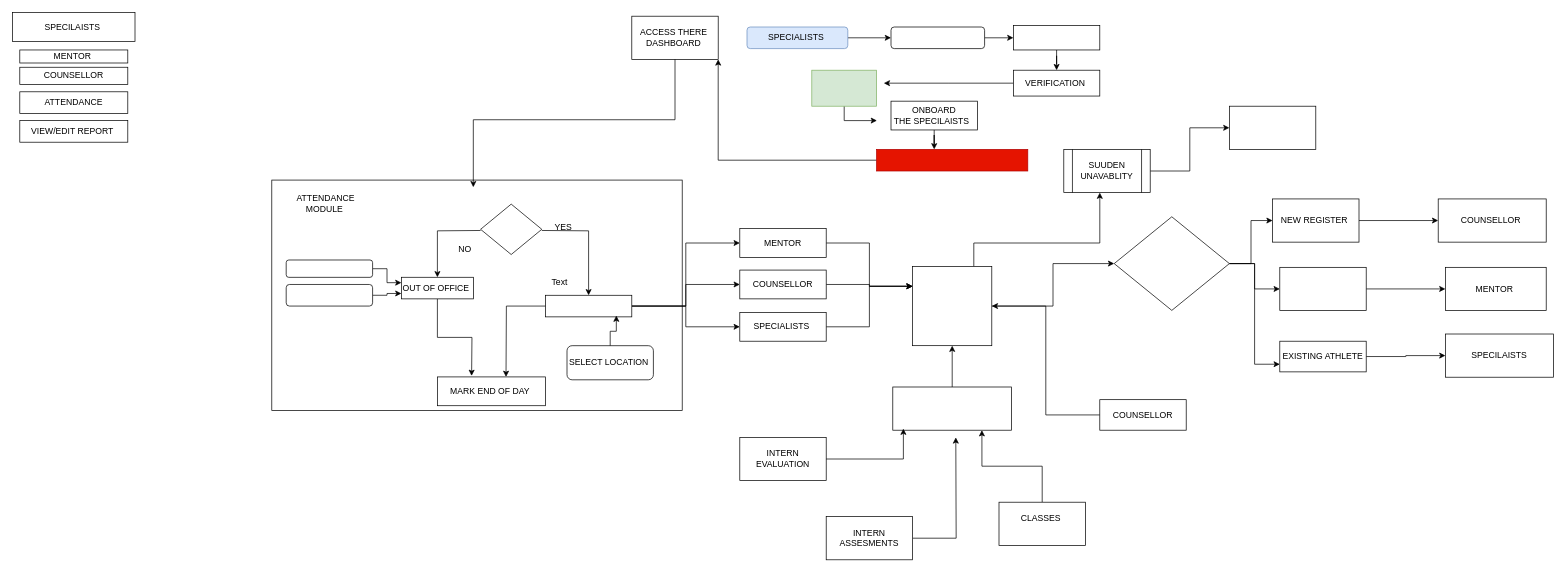
This 1566x572 diagram has some shape labels left out. Each missing label, with the centre of its shape:
"DOCUMENT UPLOAD" belongs at point 1056,37.
"IF AVALIBLE SPECLIALISTS" belongs at point 1171,263.
"IF IN OFFICE" belongs at point 511,229.
"INTERN" belongs at point 1322,289.
"IT SUPPORT" belongs at point 844,87.
"LOCATION" belongs at point 329,295.
"Login Credtional are sent to the mail" belongs at point 952,160.
"MARKS IN OFFICE" belongs at point 588,306.
"MENTOR SCHEDULE" belongs at point 952,408.
"REASON" belongs at point 329,268.
"REGISTER" belongs at point 937,37.
"SCHEDULER" belongs at point 952,306.
"TRANFER TO OTHER SPECLIATS" belongs at point 1272,127.
